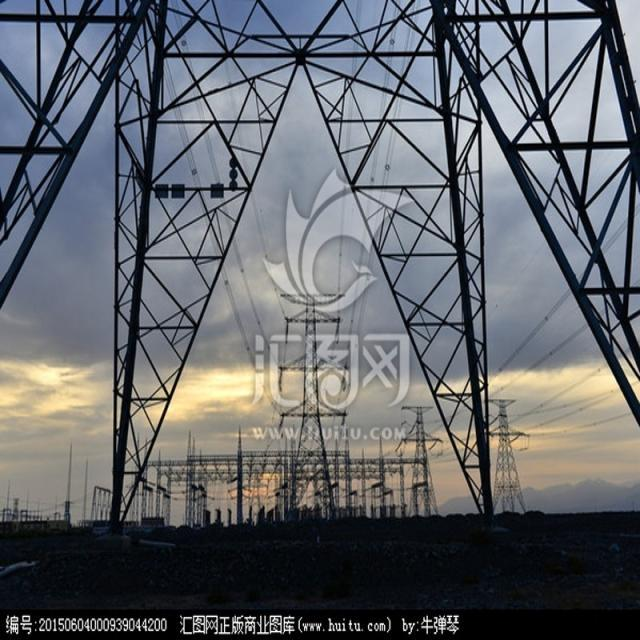non-critical vegetation: (5, 4, 637, 602), (277, 282, 349, 520), (482, 395, 532, 512), (398, 398, 443, 512)
